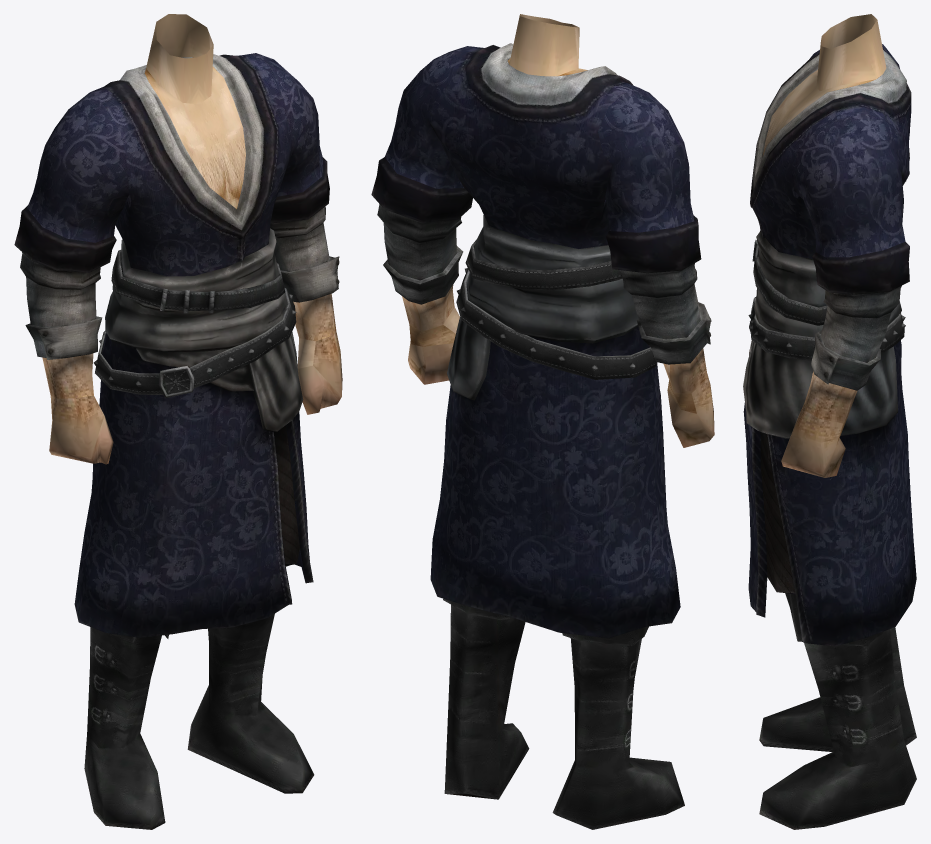
Rendered from KOSA_KONTUSZ_BLUE.glb.
3 renders of one model, left to right at view 1: azimuth 30°, elevation 25°; view 2: azimuth 150°, elevation 25°; view 3: azimuth 270°, elevation 25°, orthographic. The views are drawn at different scales.
Parts seen in each view (by area): view 1: KOSA_KONTUSZ_BLUE; view 2: KOSA_KONTUSZ_BLUE; view 3: KOSA_KONTUSZ_BLUE.
Boxes of the visible parts, x1,y1,x2,y2 form: KOSA_KONTUSZ_BLUE: (14, 14, 342, 829); KOSA_KONTUSZ_BLUE: (371, 14, 714, 829); KOSA_KONTUSZ_BLUE: (743, 14, 916, 829).
Bounding box in the file's own units: 0.7081 × 1.69 × 0.3516.
2 materials, 2 textured.
